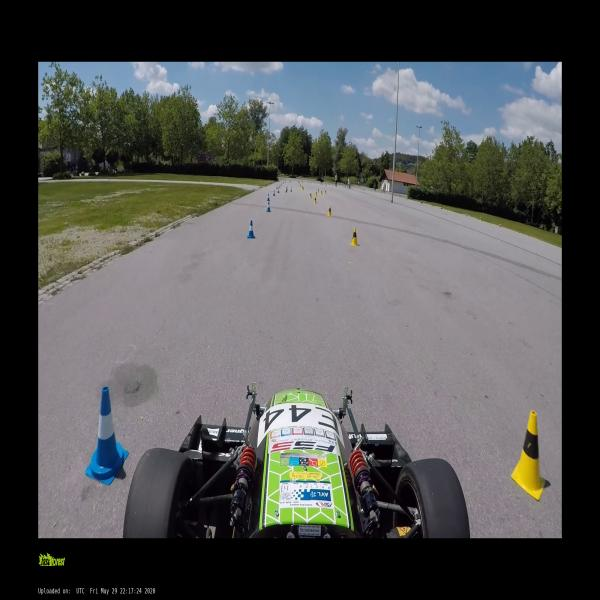blue_cone: (86, 389, 130, 485), (247, 220, 255, 240), (266, 202, 271, 213), (272, 189, 276, 196), (267, 193, 270, 202), (277, 188, 280, 193), (290, 187, 292, 192)
yellow_cone: (511, 414, 549, 498), (348, 228, 358, 248), (326, 206, 332, 217), (313, 196, 316, 205), (309, 192, 312, 199), (301, 186, 304, 191), (479, 217, 482, 222), (320, 191, 323, 195), (315, 191, 317, 196), (318, 189, 320, 193), (324, 190, 326, 194)
